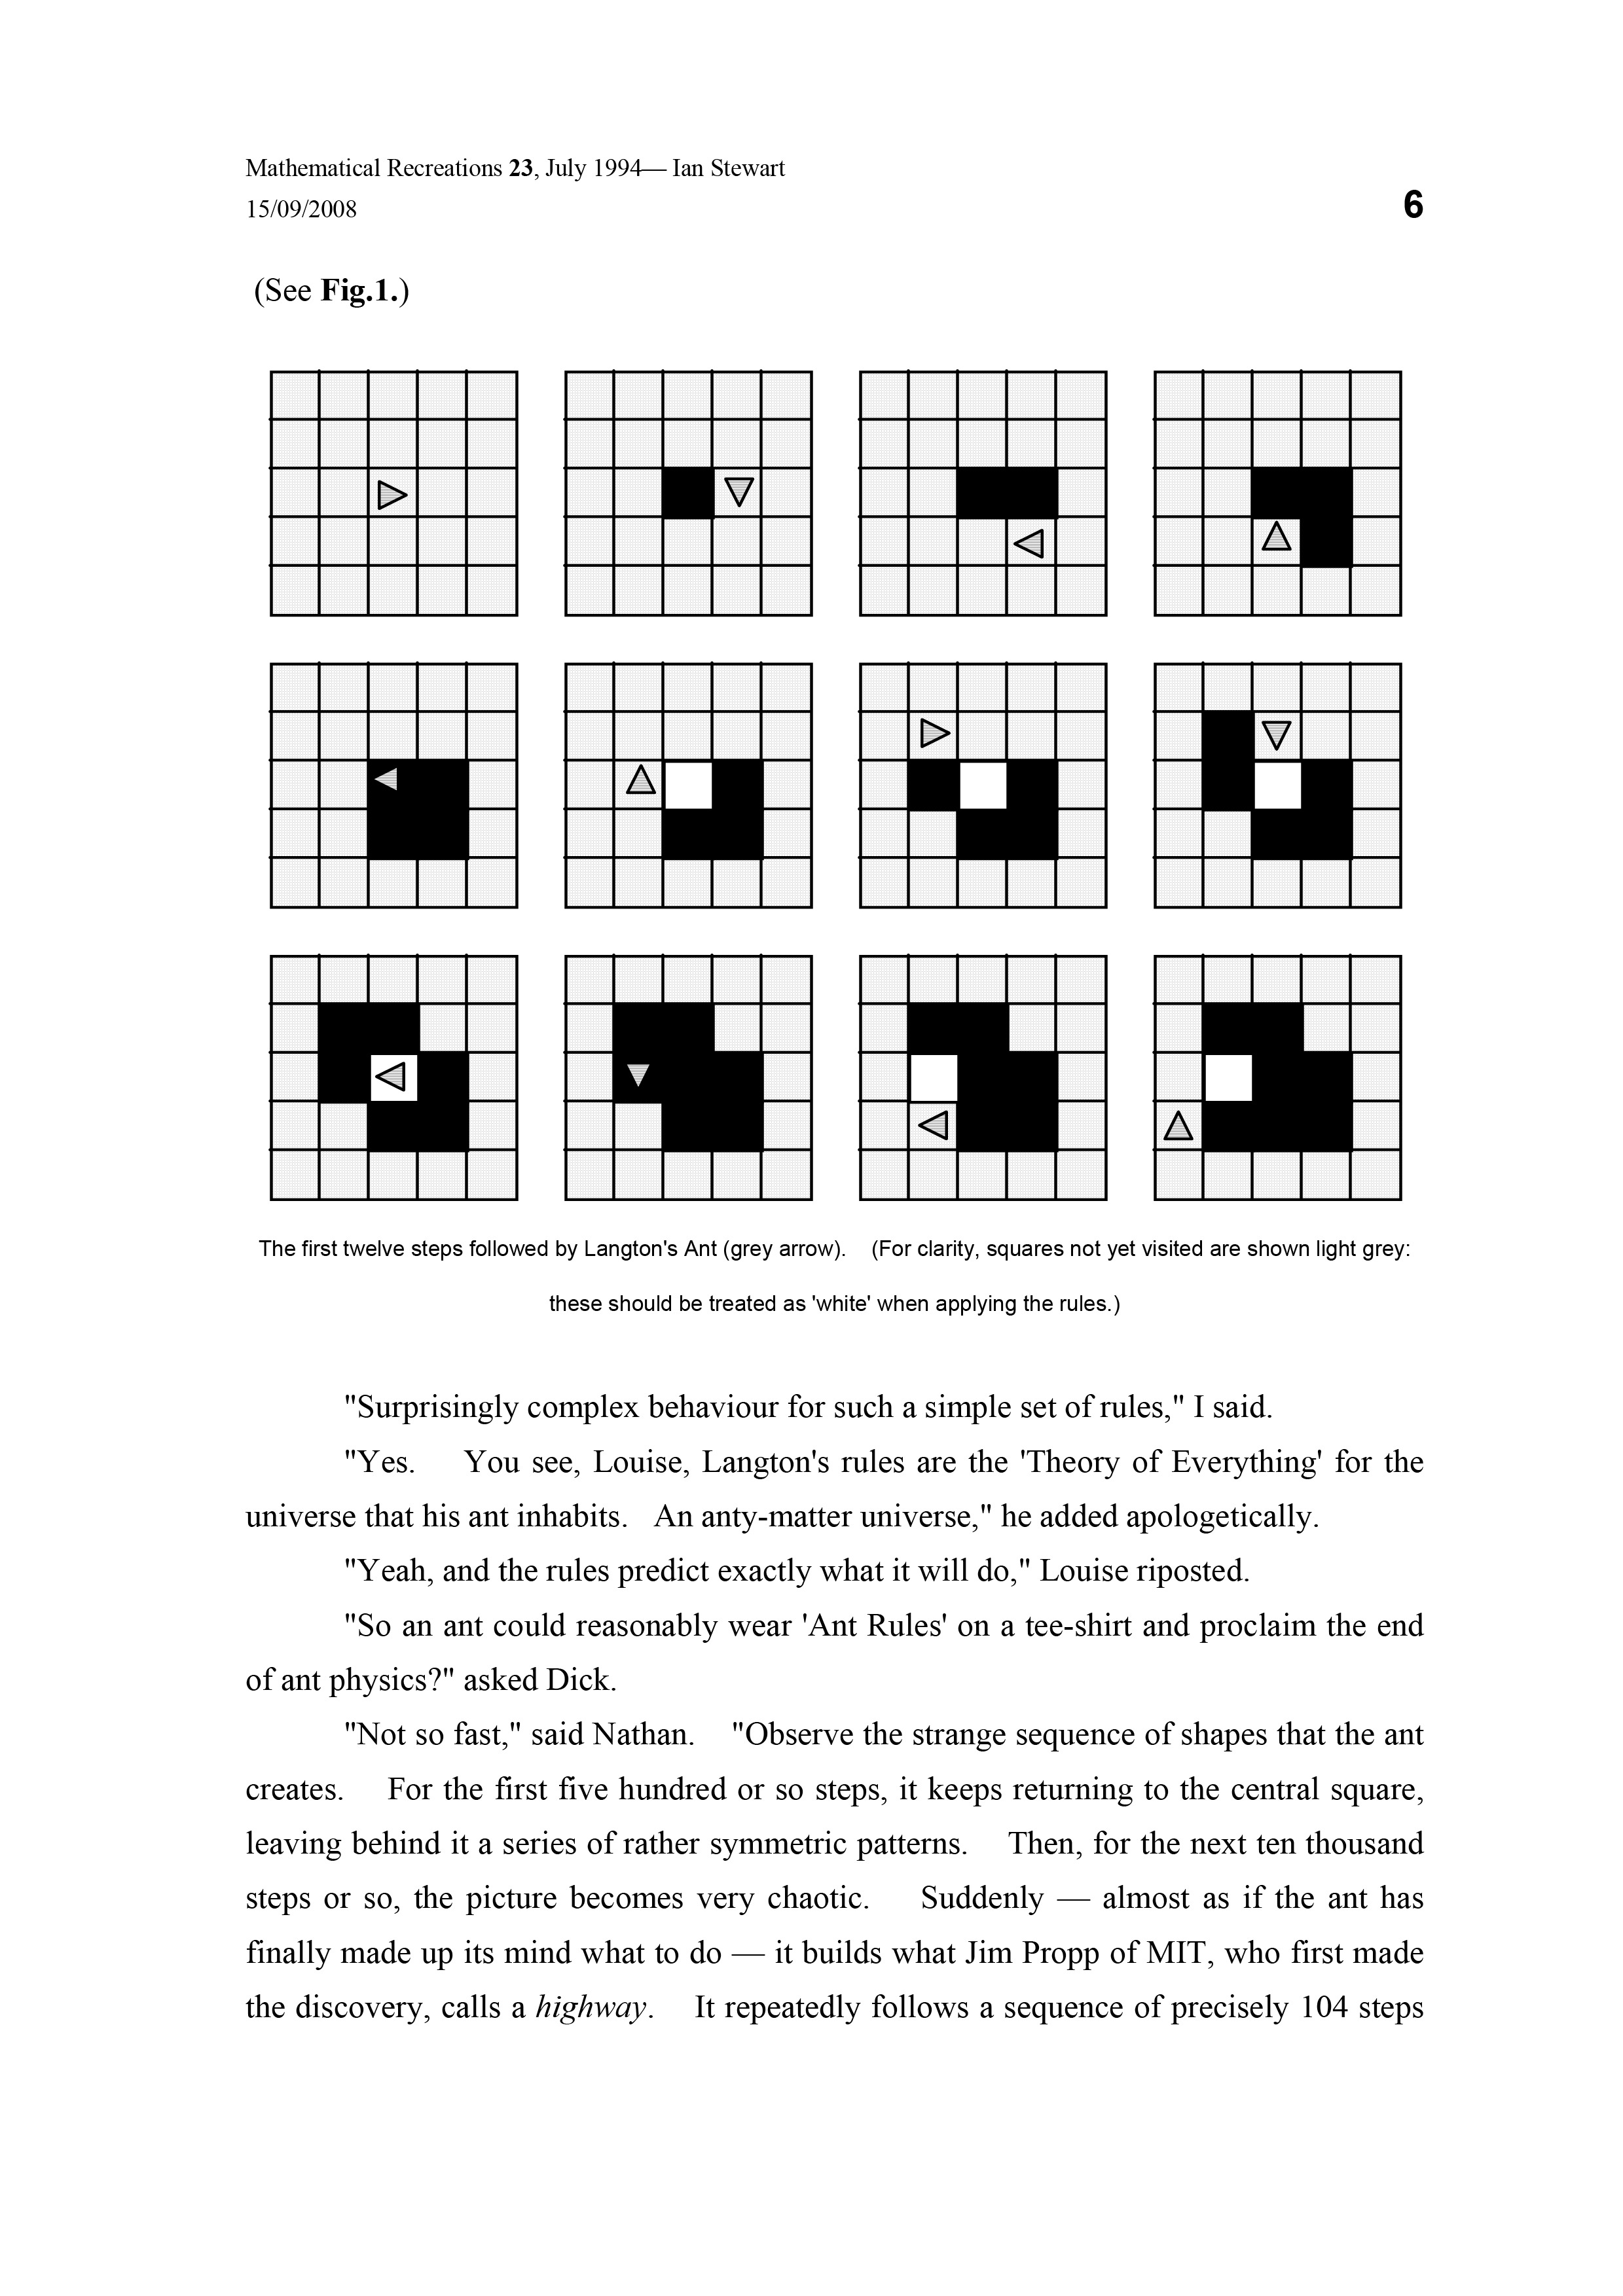caption: (249, 1232, 1417, 1327)
figure: (262, 370, 1417, 1208)
text: (218, 1722, 1453, 2033), (234, 1599, 1446, 1711), (242, 1441, 1435, 1522), (346, 1536, 1270, 1599), (335, 1376, 1296, 1436), (223, 137, 804, 232)
